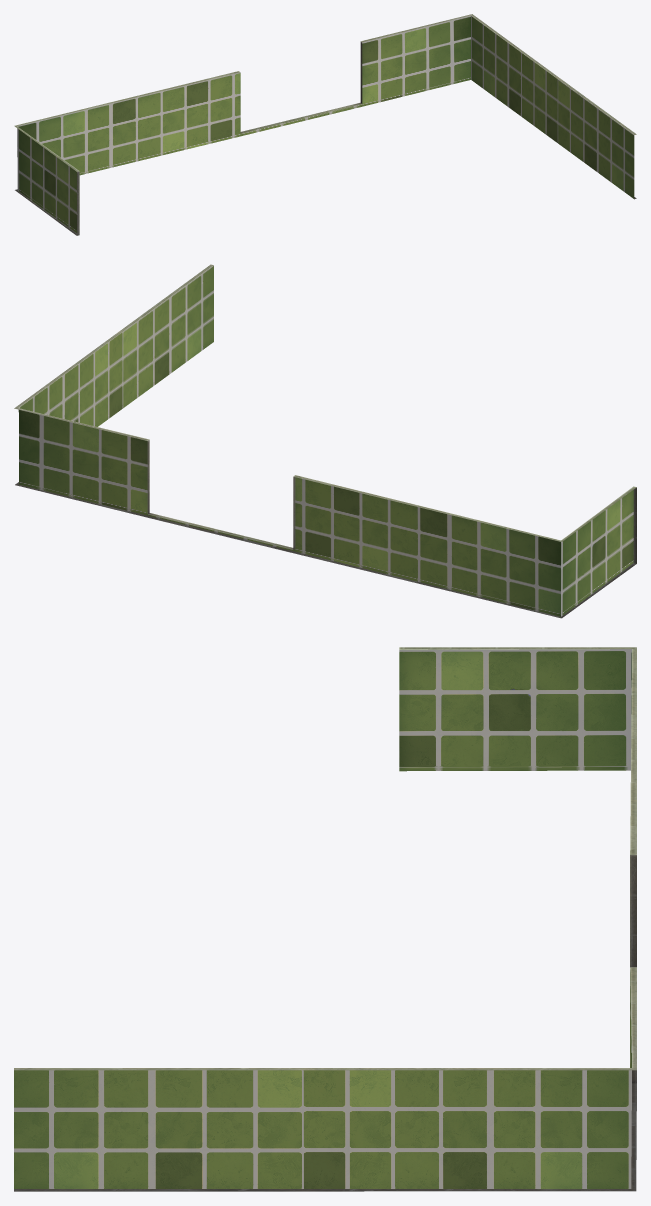
The model's file is SM_Walls_Tile.fbx.
3 views of the same model, one above another, from view 1: azimuth 30°, elevation 25°; view 2: azimuth 150°, elevation 25°; view 3: azimuth 270°, elevation 25° (orthographic). The views are drawn at different scales.
Visible parts, largest first — view 1: SM_Walls_Tile_LOD0; view 2: SM_Walls_Tile_LOD0; view 3: SM_Walls_Tile_LOD0.
Boxes of the visible parts, x1,y1,x2,y2 form: SM_Walls_Tile_LOD0: (14, 14, 636, 235); SM_Walls_Tile_LOD0: (14, 264, 636, 618); SM_Walls_Tile_LOD0: (14, 647, 636, 1191).
Size of the model in its own units: 365 by 227 by 48.71.
Materials: 1 (1 with a texture image).
